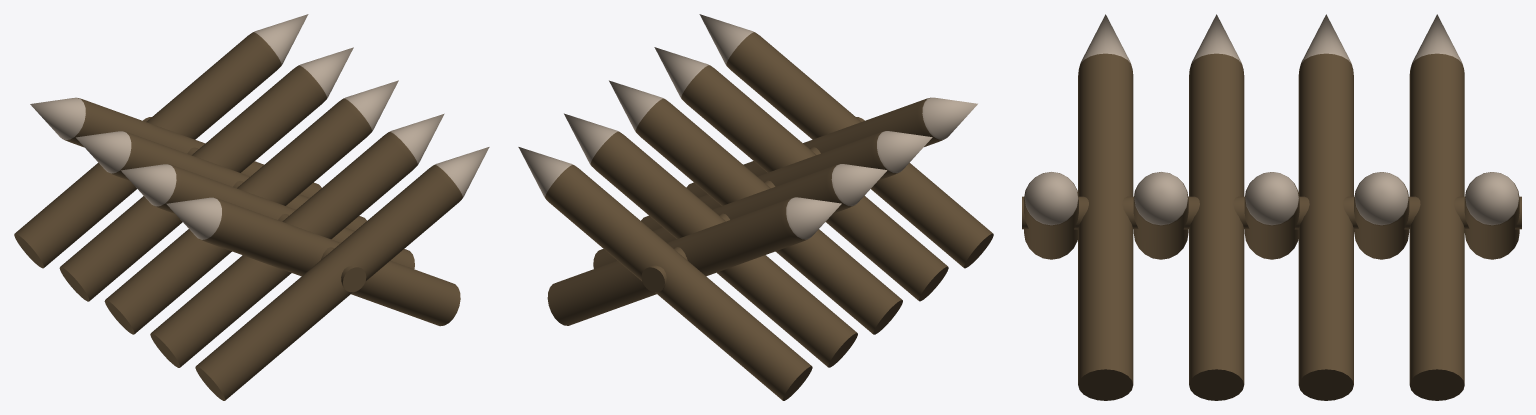
The model's file is spikes.fbx.
3 views of the same model, side by side, from view 1: azimuth 30°, elevation 25°; view 2: azimuth 150°, elevation 25°; view 3: azimuth 270°, elevation 25° (orthographic). The views are drawn at different scales.
Parts seen in each view (by area): view 1: polySurface18; view 2: polySurface18; view 3: polySurface18.
Part boxes in pixels (x1,y1,x2,y2): polySurface18: (14, 14, 489, 400); polySurface18: (518, 14, 993, 400); polySurface18: (1022, 14, 1521, 400).
Size of the model in its own units: 4.53 by 2.68 by 5.36.
